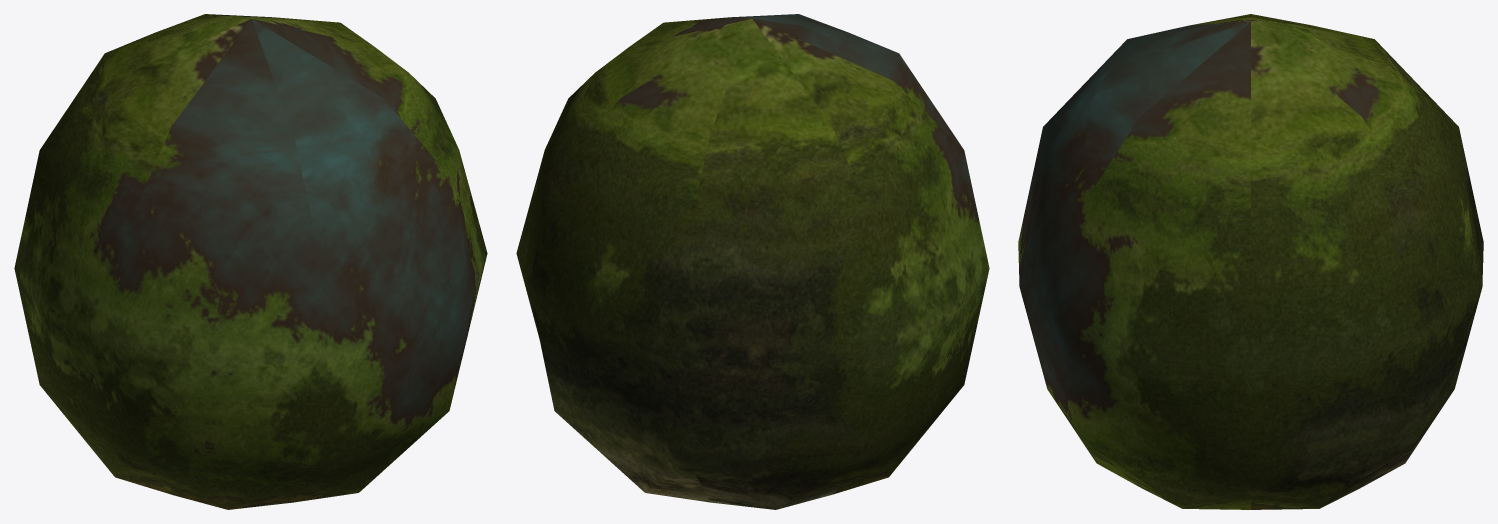
The model's file is Planet6.fbx.
3 views of the same model, side by side, from view 1: azimuth 30°, elevation 25°; view 2: azimuth 150°, elevation 25°; view 3: azimuth 270°, elevation 25° (orthographic).
Visible parts, largest first — view 1: pasted__pasted__pSphere3; view 2: pasted__pasted__pSphere3; view 3: pasted__pasted__pSphere3.
Boxes of the visible parts, x1=… form: pasted__pasted__pSphere3: x1=14, y1=14, x2=487, y2=509; pasted__pasted__pSphere3: x1=516, y1=14, x2=989, y2=509; pasted__pasted__pSphere3: x1=1018, y1=14, x2=1483, y2=509.
Bounding box in the file's own units: 1.56 × 1.76 × 1.53.
1 material, 1 textured.
